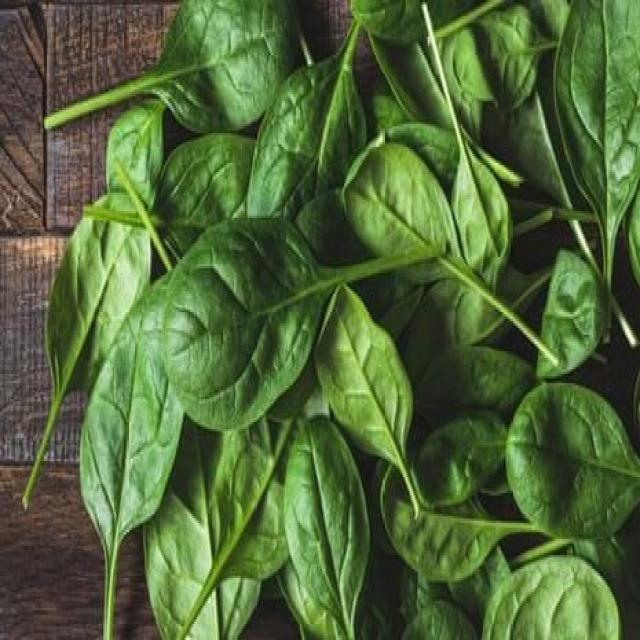Spinach: (25, 0, 640, 640)
